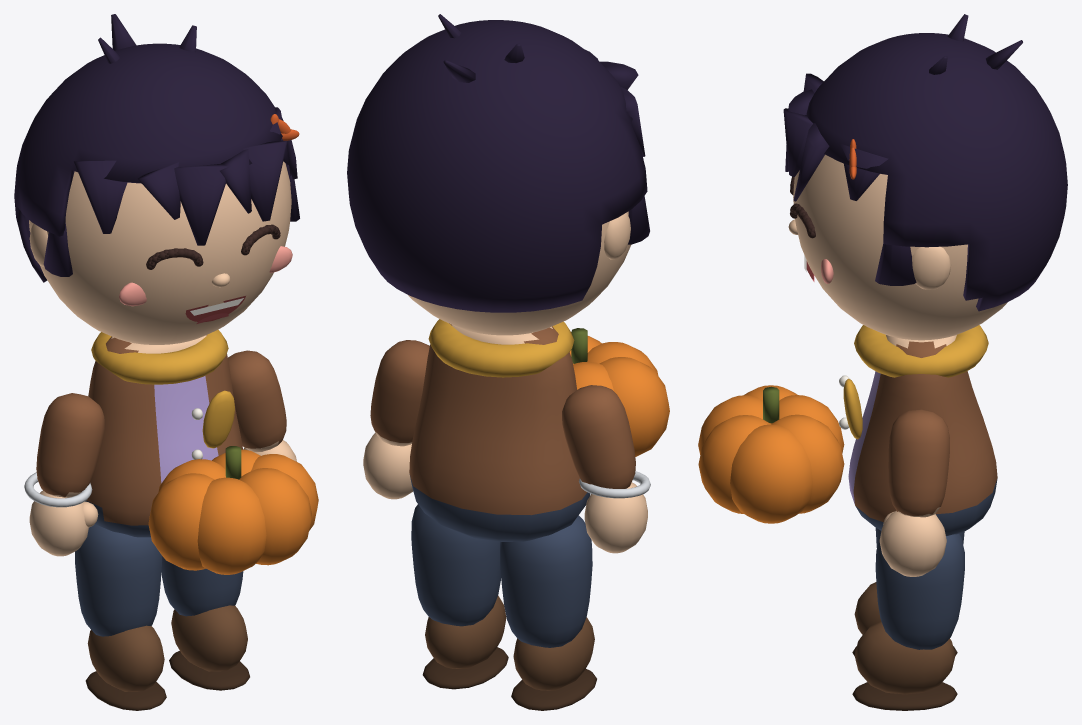
File: khoi-thu.glb
3 renders of one model, left to right at view 1: azimuth 30°, elevation 25°; view 2: azimuth 150°, elevation 25°; view 3: azimuth 270°, elevation 25°, orthographic. The views are drawn at different scales.
Parts seen in each view (by area): view 1: head, body, held, legL, armL, legR, armR; view 2: head, body, legL, legR, armL, armR, held; view 3: head, body, held, legR, armR, legL.
Part boxes in pixels (x1,y1,x2,y2): head: (14, 14, 299, 344); body: (85, 329, 242, 537); held: (148, 446, 318, 574); legL: (75, 524, 166, 710); armL: (24, 393, 104, 556); legR: (161, 556, 249, 690); armR: (228, 350, 296, 461); head: (347, 14, 649, 335); body: (409, 319, 590, 541); legL: (500, 515, 596, 710); legR: (411, 504, 508, 689); armL: (562, 385, 650, 553); armR: (363, 340, 429, 499); held: (569, 328, 669, 456); head: (783, 14, 1067, 340); body: (839, 325, 997, 535); held: (698, 385, 844, 523); legR: (852, 533, 964, 710); armR: (879, 409, 949, 576); legL: (852, 527, 964, 655).
Size of the model in its own units: 0.3642 by 0.8379 by 0.4337.
